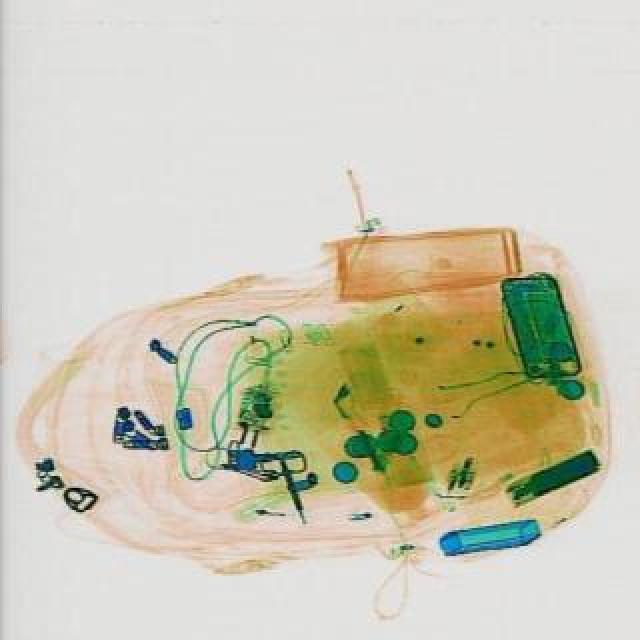pliers: (254, 444, 324, 532)
